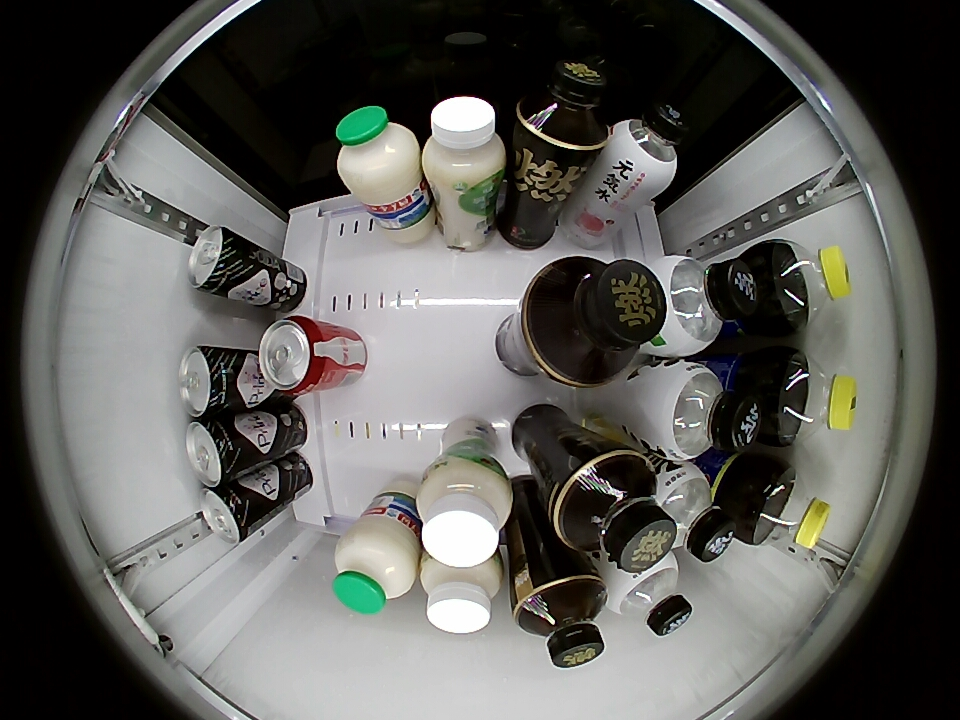baishikele: (773, 351, 858, 445), (767, 241, 851, 330), (748, 466, 832, 550)
kele: (258, 316, 327, 394)
liziyuan: (335, 105, 422, 204), (333, 517, 419, 615)
qingdaowangzi-1: (178, 345, 241, 418), (185, 417, 245, 486), (187, 226, 244, 295), (198, 485, 256, 544)
rancha-1: (518, 256, 669, 386), (552, 451, 680, 572), (515, 57, 610, 156), (513, 573, 607, 669)
yousuanru: (416, 456, 514, 567), (422, 96, 507, 193), (420, 550, 503, 634)
yuanqishui: (642, 359, 762, 460), (651, 255, 758, 358), (651, 462, 736, 562), (605, 100, 688, 192), (604, 554, 693, 636)
